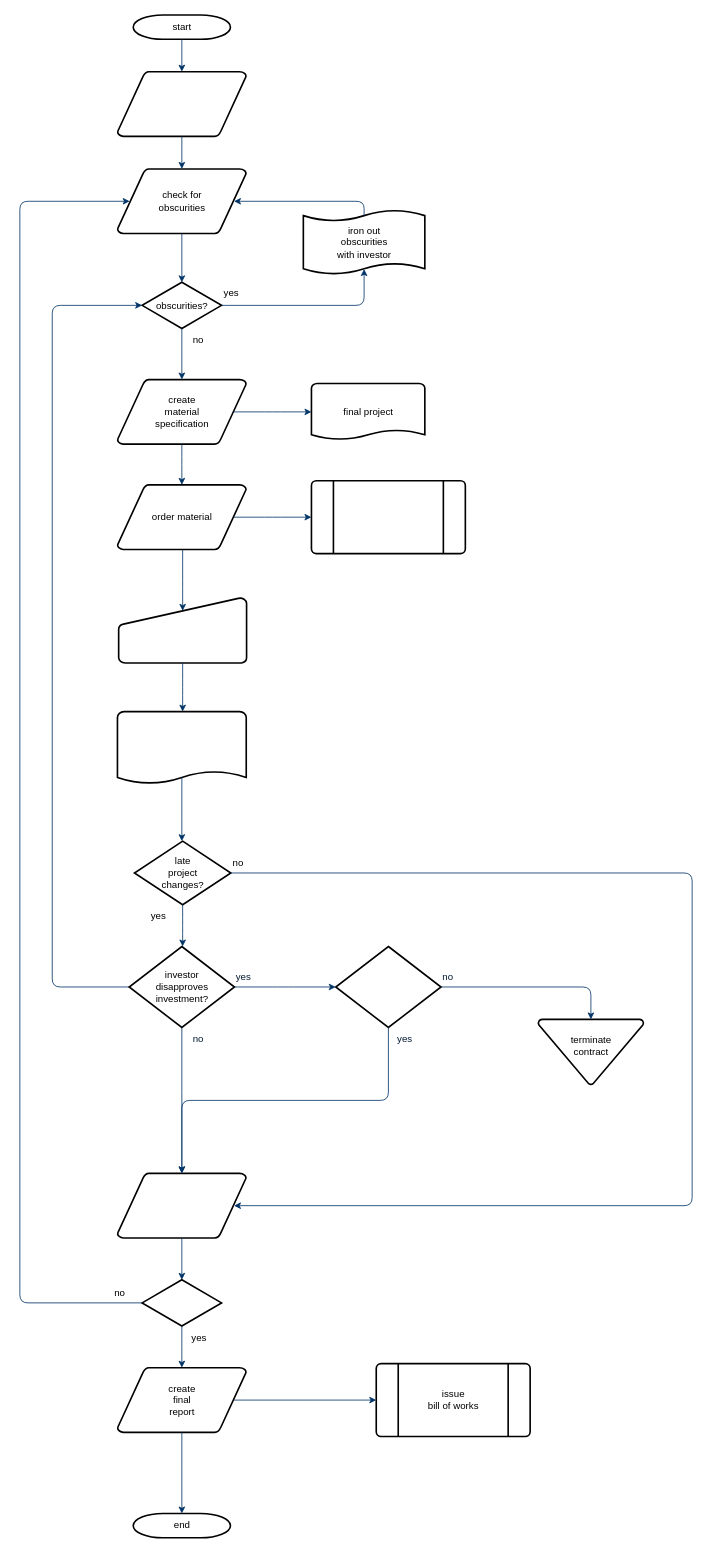
Image size: 713x1552. Some labels were removed from this diagram. The centre of each missing label's shape, as x and y in pixels:
agreement?: the point at 388,986
create Gantt diagram: the point at 181,747
create status report: the point at 181,1205
imu: the point at 181,103
material balance: the point at 388,517
organize workforce: the point at 182,630
project complete?: the point at 181,1302
